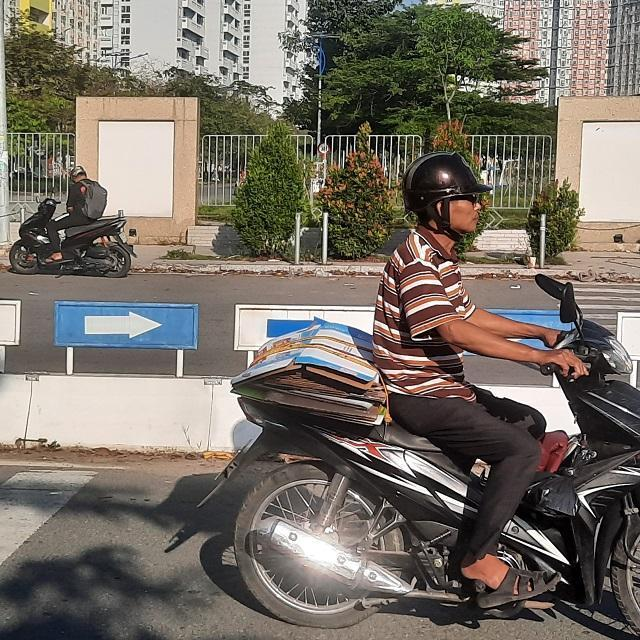Helmet: (400, 149, 500, 237)
